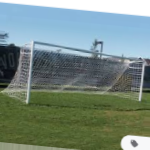goals: (1, 40, 146, 109)
